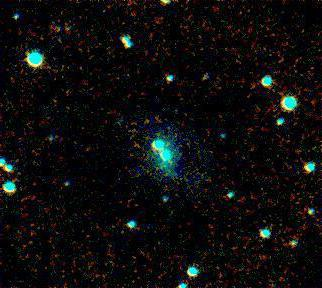star: (131, 100, 161, 130)
